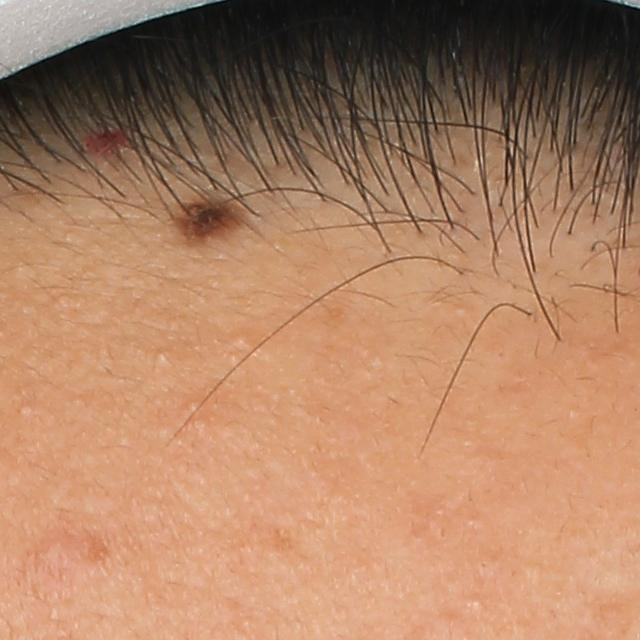comedo: (466, 595, 487, 617), (232, 333, 253, 350), (154, 350, 171, 367), (16, 402, 32, 414)
nevus: (175, 194, 255, 244)
